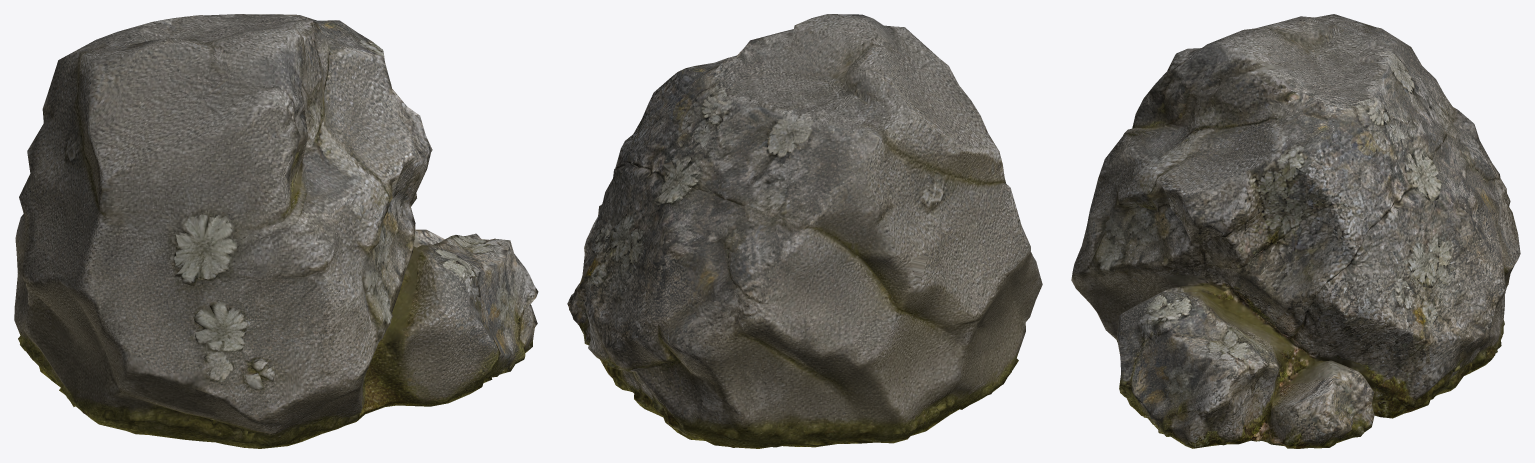
File: boulder.glb
The picture shows the model from 3 angles, left to right: view 1: azimuth 30°, elevation 25°; view 2: azimuth 150°, elevation 25°; view 3: azimuth 270°, elevation 25°; orthographic projection. The views are drawn at different scales.
Parts seen in each view (by area): view 1: tripo_node_23a5da1b-bb18-4374-b3a2-4316e24096e5; view 2: tripo_node_23a5da1b-bb18-4374-b3a2-4316e24096e5; view 3: tripo_node_23a5da1b-bb18-4374-b3a2-4316e24096e5.
Boxes of the visible parts, x1,y1,x2,y2 form: tripo_node_23a5da1b-bb18-4374-b3a2-4316e24096e5: (14,14,538,448); tripo_node_23a5da1b-bb18-4374-b3a2-4316e24096e5: (567,14,1042,448); tripo_node_23a5da1b-bb18-4374-b3a2-4316e24096e5: (1071,14,1520,448).
Size of the model in its own units: 0.9694 by 0.7249 by 0.9568.
Materials: 1 (1 with a texture image).
